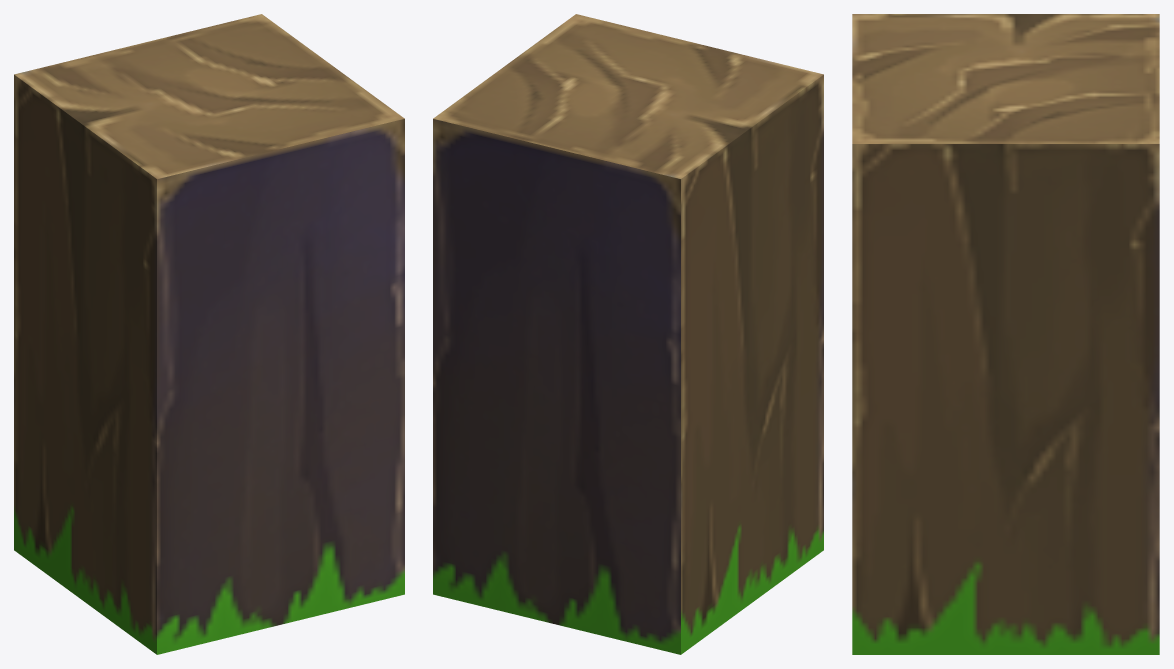
Rendered from scenes_town_stakes01.FBX.
3 renders of one model, left to right at view 1: azimuth 30°, elevation 25°; view 2: azimuth 150°, elevation 25°; view 3: azimuth 270°, elevation 25°, orthographic. The views are drawn at different scales.
Parts seen in each view (by area): view 1: scenes_town_stakes01; view 2: scenes_town_stakes01; view 3: scenes_town_stakes01.
Part boxes in pixels (<box>): scenes_town_stakes01: <box>14,14,404,654</box>; scenes_town_stakes01: <box>433,14,823,654</box>; scenes_town_stakes01: <box>852,14,1159,654</box>.
Size of the model in its own units: 105 by 192 by 105.
